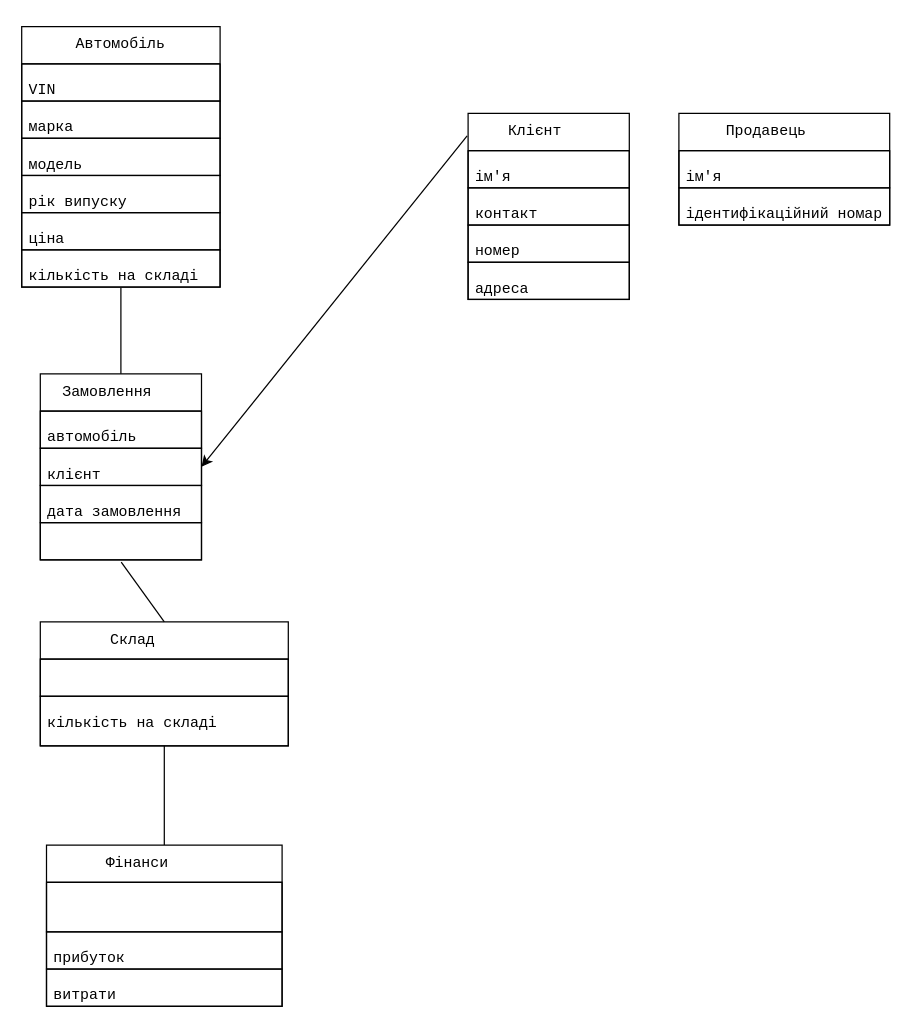
The diagram is 911 pixels wide and 1028 high, and some of its shapes have lost their labels. The shapes that lost their labels are listed below. From the top down, each one's centre as x and y in pixels, then its label:
At pixel 120 540: "статус".
At pixel 163 677: "список доступних автомобілів".
At pixel 163 906: "список фінансових операцій".
